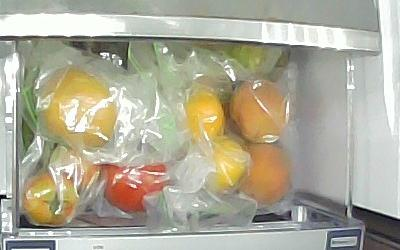peach_vinyl: (228, 79, 286, 144), (238, 141, 291, 207)
pear_vinyl: (41, 70, 117, 148)
tangerine_vinyl: (184, 88, 224, 143), (212, 134, 246, 192)
tomato_vinyl: (98, 160, 168, 212), (21, 168, 78, 225), (58, 151, 100, 190)
